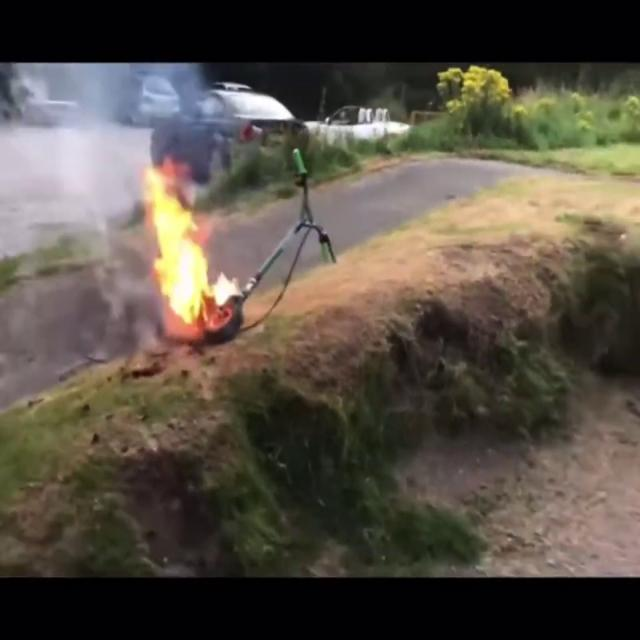Fire: (137, 157, 235, 328)
Smoke: (1, 62, 218, 179)
